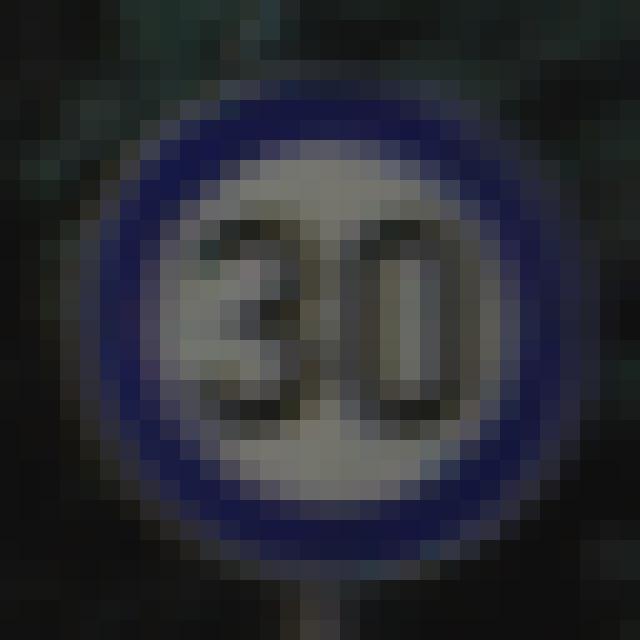SPEED LIMIT 30: (166, 160, 544, 568)
